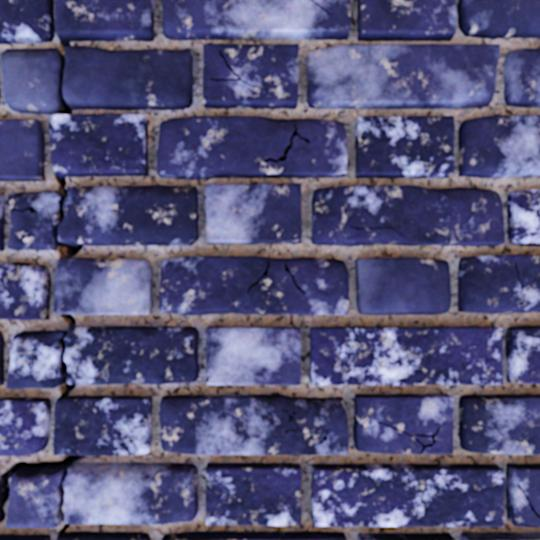brick: (307, 44, 499, 108), (311, 464, 504, 526), (157, 116, 346, 179), (312, 185, 504, 245), (160, 395, 348, 454), (159, 256, 348, 314), (310, 327, 502, 384), (162, 0, 349, 39), (0, 0, 153, 43), (203, 44, 298, 108), (49, 114, 147, 176), (355, 116, 453, 177), (353, 394, 453, 453), (206, 463, 301, 525), (53, 396, 152, 455), (206, 184, 301, 243), (54, 258, 152, 314), (206, 327, 300, 384), (355, 258, 450, 314), (458, 115, 539, 177), (458, 254, 539, 313), (459, 395, 539, 454), (358, 0, 456, 40), (458, 0, 539, 38), (0, 262, 50, 319), (0, 398, 50, 455), (0, 120, 44, 181), (506, 464, 539, 526), (504, 49, 539, 107), (505, 326, 539, 383), (507, 189, 539, 245), (162, 531, 345, 539), (57, 532, 150, 539), (358, 533, 454, 539), (461, 532, 539, 539), (0, 194, 4, 250), (0, 331, 4, 384), (0, 535, 50, 539), (0, 484, 1, 506)
broken_brick: (59, 184, 198, 246), (64, 462, 198, 525), (64, 45, 193, 110), (65, 326, 199, 384), (0, 48, 61, 114), (6, 330, 61, 388), (5, 471, 60, 528), (7, 190, 58, 250)
crack: (0, 454, 88, 537), (49, 172, 83, 260), (376, 420, 441, 454), (57, 313, 76, 397), (51, 39, 72, 115), (516, 483, 539, 518), (310, 0, 331, 16), (9, 205, 40, 214), (205, 374, 211, 382), (523, 524, 538, 527)
